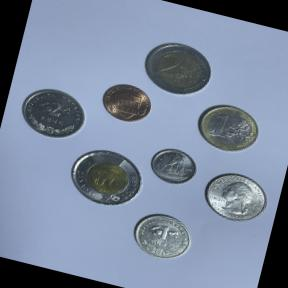1 Euro: (190, 96, 268, 160)
2 Euro: (136, 33, 222, 103)
Canda-10cent-: (144, 142, 204, 190)
Canda-2Dollar-: (59, 140, 150, 215)
Croatia-2Kune-: (12, 78, 95, 147)
US-1cent-: (94, 77, 160, 128)
US-25cent-: (195, 164, 277, 230)
